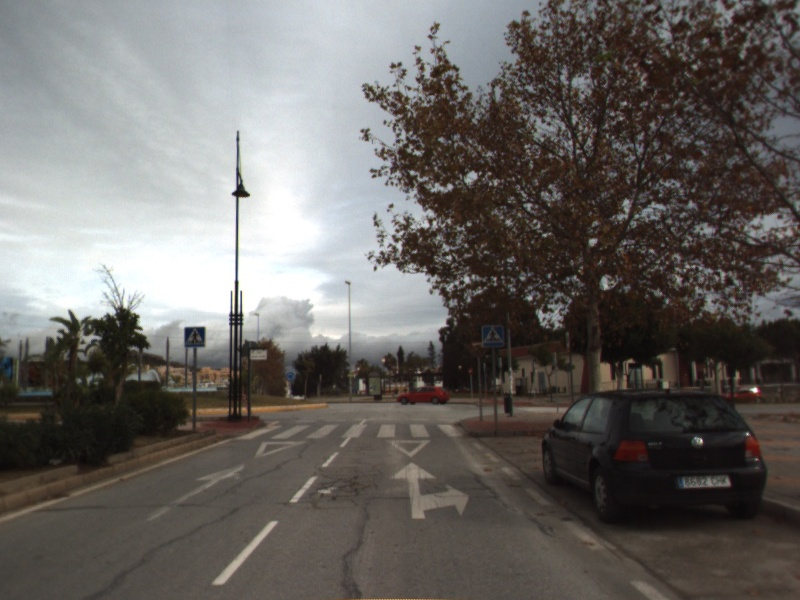STRAIGHT: (143, 460, 248, 523)
STRAIGHT_RIGHT: (387, 459, 472, 521)
